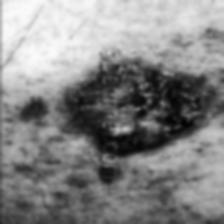Potentially Malignant Skin Tumors: (117, 74, 194, 144)
